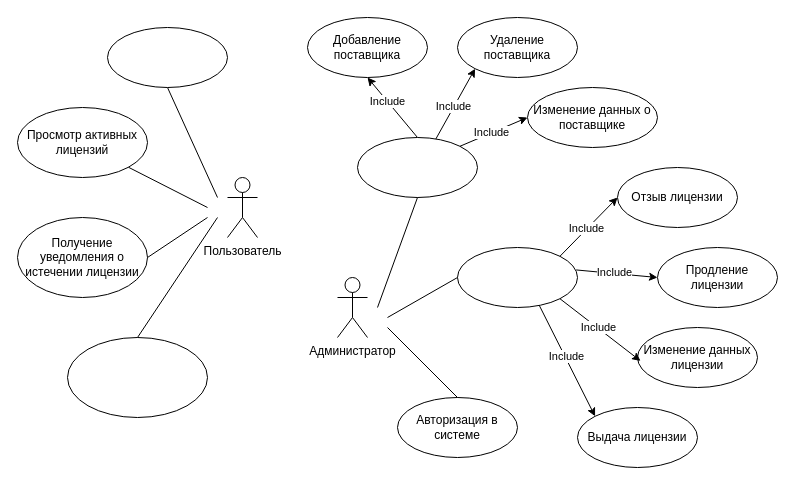
Some shapes in this 795 by 485 pixel diagram are drawn without their labels. The shapes that lost their labels are listed below. From the top down, each one's centre as x and y in pixels, then its label:
At point 167,57: "Авторпизация в системе".
At point 417,167: "Упраление поставщиками".
At point 517,277: "Управление лицензиями".
At point 137,377: "Получения доступа к ПО с активной лицензией".
